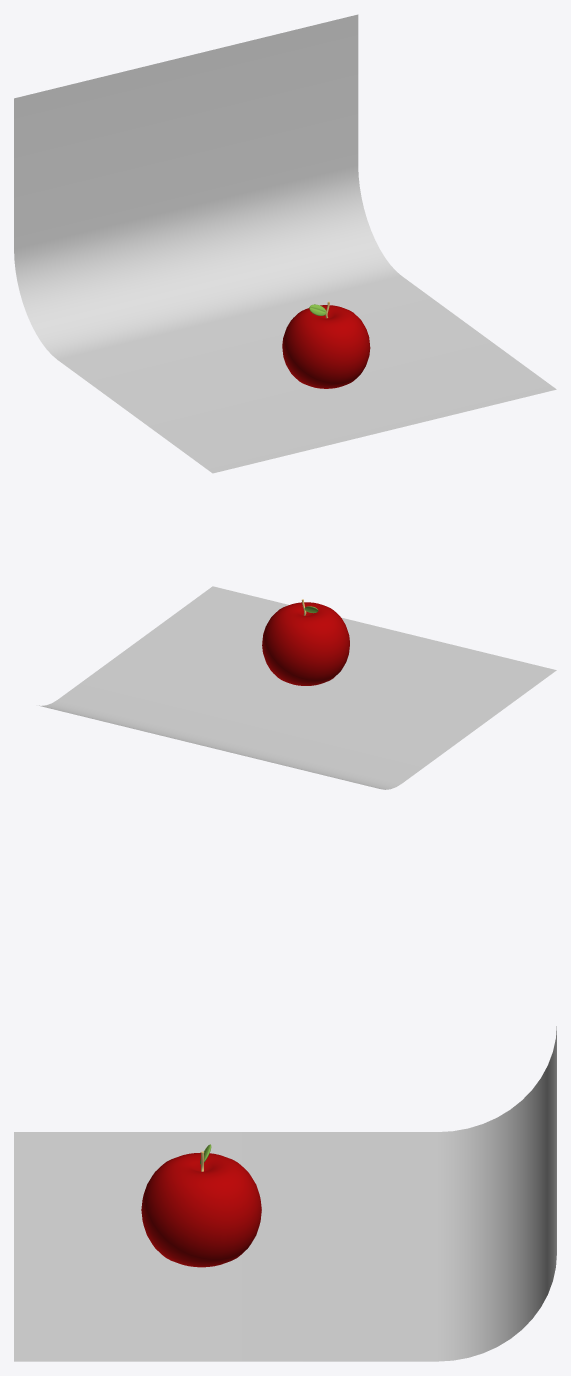
The model's file is asset.glb.
3 renders of one model, top to bottom at view 1: azimuth 30°, elevation 25°; view 2: azimuth 150°, elevation 25°; view 3: azimuth 270°, elevation 25°, orthographic. The views are drawn at different scales.
Visible parts, largest first — view 1: Plane, Sphere.003; view 2: Plane, Sphere.003; view 3: Plane, Sphere.003.
Part boxes in pixels (<box>): Plane: <box>14,14,556,473</box>; Sphere.003: <box>282,305,370,388</box>; Plane: <box>39,586,556,789</box>; Sphere.003: <box>262,602,349,685</box>; Plane: <box>14,1026,556,1361</box>; Sphere.003: <box>141,1152,261,1267</box>.
Size of the model in its own units: 2 by 1.28 by 2.
